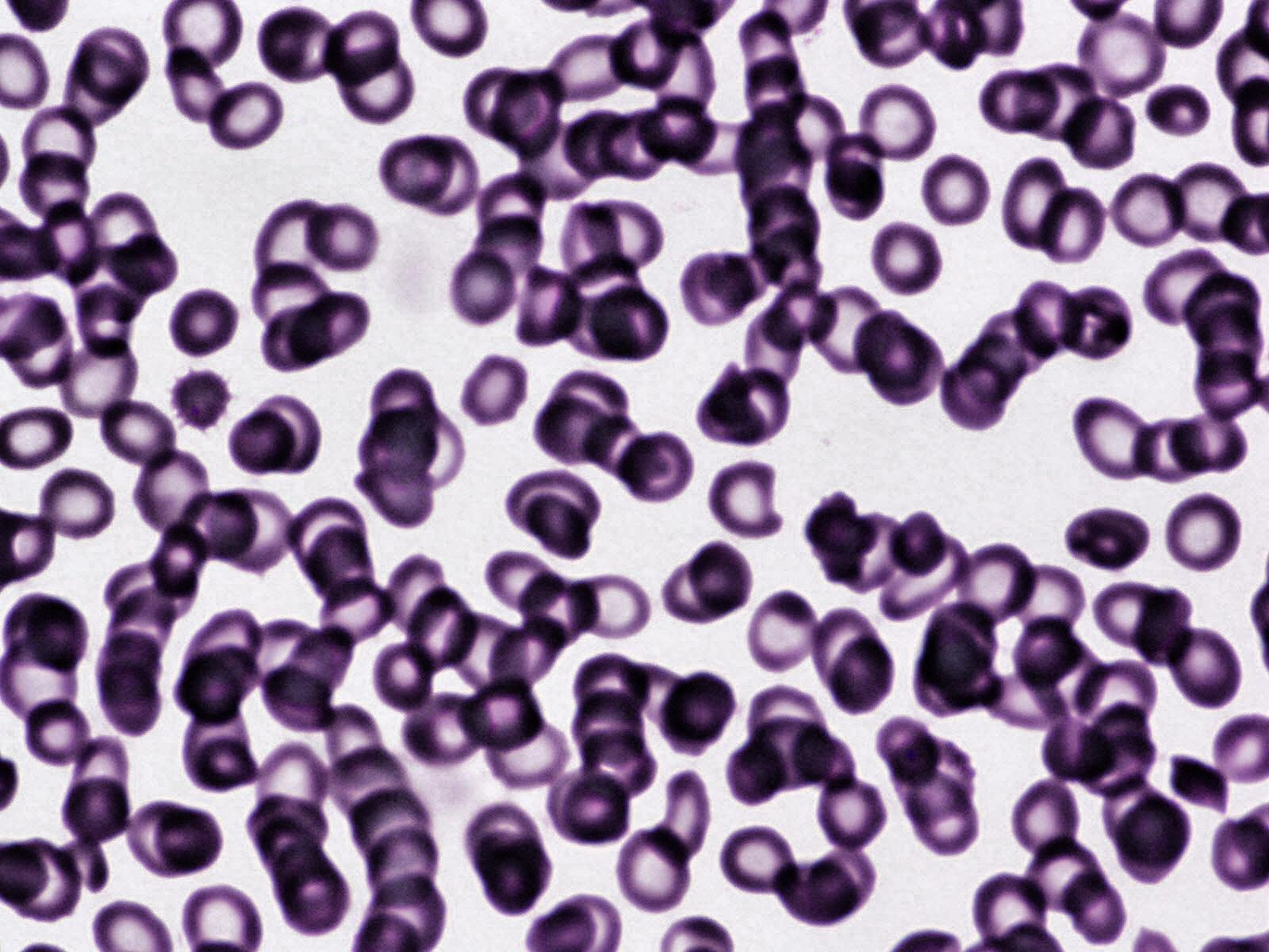Infected: (884, 732, 977, 827), (162, 366, 232, 435)
Uninfected: (1073, 6, 1167, 104), (1066, 392, 1161, 485), (127, 443, 217, 536), (203, 488, 301, 573), (244, 259, 344, 342), (504, 464, 605, 546), (399, 688, 496, 772), (1161, 159, 1258, 241), (948, 539, 1037, 628), (244, 620, 335, 707), (1000, 158, 1079, 258), (52, 332, 137, 424), (1156, 620, 1241, 711), (107, 548, 198, 633), (546, 758, 631, 848), (813, 281, 891, 378), (613, 823, 694, 916), (256, 5, 349, 86), (537, 31, 638, 105), (738, 716, 832, 795), (1077, 705, 1158, 796), (400, 579, 475, 676), (14, 103, 101, 186), (520, 118, 608, 200), (745, 587, 824, 678), (1140, 251, 1234, 327), (1164, 489, 1244, 578), (286, 495, 368, 581), (546, 366, 633, 447), (1007, 774, 1086, 863), (562, 570, 656, 644), (1018, 835, 1108, 912), (914, 633, 995, 718), (480, 713, 567, 792), (879, 540, 966, 619), (810, 769, 888, 857), (852, 84, 934, 167), (443, 616, 527, 697), (381, 406, 460, 492), (181, 706, 259, 793), (257, 742, 333, 831), (1110, 169, 1191, 252), (807, 607, 887, 691), (294, 196, 379, 275), (1018, 65, 1103, 144), (1025, 640, 1111, 718), (739, 136, 814, 225), (456, 674, 546, 748), (33, 466, 115, 547), (254, 200, 334, 283), (475, 829, 551, 916), (99, 395, 180, 476), (1013, 616, 1098, 693), (1061, 85, 1136, 172), (348, 789, 428, 870), (923, 600, 1002, 682), (69, 245, 154, 321), (301, 524, 377, 609), (202, 77, 288, 152), (512, 262, 585, 350), (335, 44, 413, 126), (747, 687, 829, 765), (1010, 565, 1094, 641), (918, 150, 993, 235), (1117, 797, 1189, 885), (174, 644, 255, 722), (580, 200, 664, 275), (366, 823, 440, 908), (491, 73, 564, 159), (1073, 655, 1160, 727), (1033, 189, 1112, 268), (623, 663, 702, 742), (464, 803, 544, 881), (86, 196, 162, 278), (677, 248, 761, 322), (488, 618, 568, 695), (183, 608, 263, 685), (517, 577, 600, 651), (358, 409, 435, 488), (562, 252, 642, 328), (404, 136, 478, 218), (103, 560, 197, 624), (127, 800, 205, 877), (323, 10, 399, 89), (970, 870, 1046, 949), (611, 433, 692, 507), (868, 327, 942, 408), (1094, 578, 1176, 651), (310, 577, 402, 642), (1196, 301, 1263, 390), (1065, 503, 1150, 573), (327, 746, 412, 816), (733, 98, 801, 185), (281, 625, 352, 708), (447, 244, 517, 328), (584, 415, 669, 484), (20, 692, 94, 771), (834, 513, 907, 593), (250, 395, 323, 475), (696, 360, 765, 444), (704, 457, 781, 532), (1057, 286, 1136, 359), (63, 48, 134, 129), (289, 292, 370, 363), (160, 287, 236, 362), (458, 351, 530, 430), (649, 771, 707, 869), (719, 823, 799, 894), (179, 491, 261, 560), (776, 860, 859, 928), (600, 107, 676, 181), (1184, 272, 1260, 346), (749, 186, 818, 267), (1166, 409, 1247, 478), (372, 370, 439, 453), (853, 309, 926, 385), (591, 288, 667, 361), (466, 67, 539, 143), (474, 173, 546, 250), (554, 295, 638, 361), (581, 727, 660, 797), (354, 460, 435, 528), (610, 13, 682, 89), (78, 29, 148, 107), (281, 863, 354, 937), (979, 673, 1069, 733), (763, 279, 839, 350), (0, 310, 71, 386), (110, 587, 174, 671), (829, 633, 894, 715), (76, 283, 147, 358), (750, 227, 825, 298), (575, 689, 644, 766), (558, 205, 623, 286), (719, 370, 794, 440), (247, 793, 330, 856), (676, 121, 771, 176), (572, 656, 651, 722), (664, 668, 736, 740), (485, 548, 562, 615), (98, 625, 165, 702), (25, 593, 89, 673), (738, 56, 812, 125), (258, 816, 327, 890), (640, 98, 718, 163), (381, 136, 454, 205), (770, 96, 845, 163), (1129, 420, 1210, 482), (384, 555, 448, 633), (1102, 777, 1171, 849), (564, 110, 636, 179), (100, 660, 162, 740), (658, 29, 715, 116), (274, 842, 341, 916), (745, 305, 803, 390), (535, 395, 612, 459), (739, 11, 799, 93), (1012, 282, 1080, 354), (979, 69, 1057, 131), (263, 664, 334, 732), (4, 595, 71, 667), (165, 48, 228, 124), (1063, 870, 1126, 946), (147, 524, 209, 601), (228, 410, 296, 480), (869, 223, 936, 294), (473, 216, 544, 283), (941, 357, 1006, 430), (661, 560, 738, 621), (980, 309, 1048, 378), (808, 846, 876, 914), (689, 543, 756, 612), (960, 333, 1026, 403), (39, 208, 98, 286), (1131, 589, 1191, 664), (60, 776, 128, 842), (18, 154, 83, 223), (374, 640, 438, 710), (794, 725, 857, 796), (1044, 720, 1115, 783), (727, 735, 787, 808), (263, 308, 330, 372), (155, 809, 223, 872), (109, 232, 179, 292), (524, 495, 588, 560), (1167, 756, 1233, 817), (1142, 85, 1214, 139), (326, 705, 384, 771), (890, 512, 948, 575), (826, 158, 884, 220), (828, 132, 881, 198)
